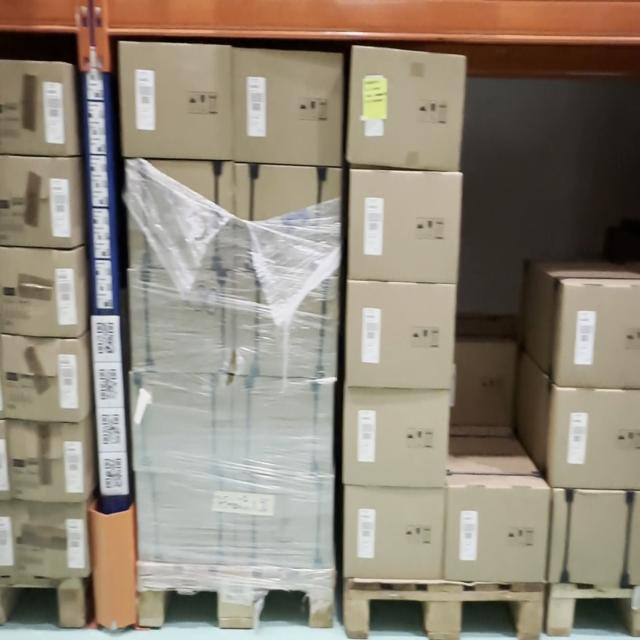box: (354, 43, 461, 170), (234, 47, 344, 166), (119, 44, 233, 157), (352, 174, 460, 281), (232, 166, 340, 269), (232, 277, 336, 382), (348, 286, 452, 389), (127, 164, 230, 268), (127, 272, 229, 372), (343, 478, 443, 577), (446, 486, 547, 584), (236, 378, 334, 472), (135, 474, 236, 565), (547, 490, 640, 587), (240, 470, 332, 566), (349, 395, 446, 484), (133, 379, 230, 468)
